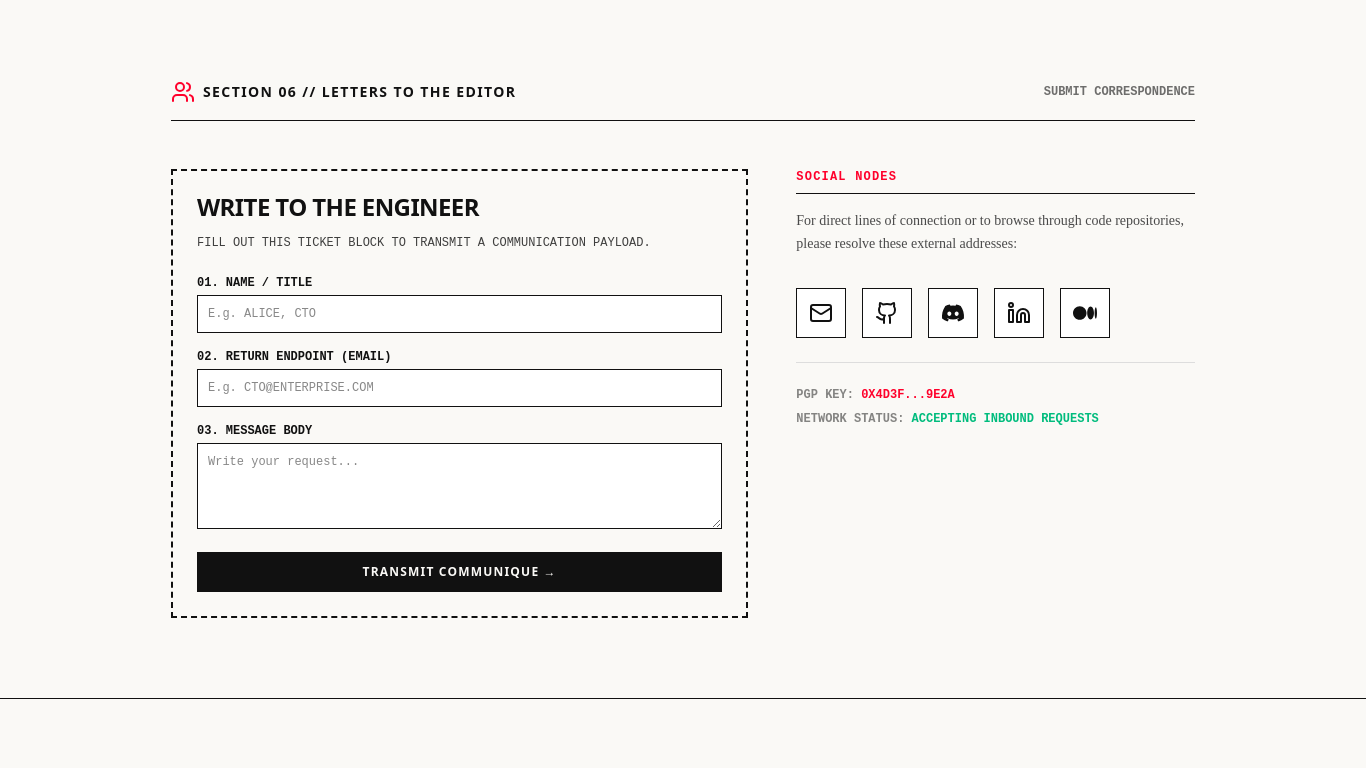
Contact Component › handles form updates and mock transmission submissions
// Enter values
Type "John Doe" into the field with placeholder "E.g. ALICE, CTO" at (460, 314), box [197,295,722,333]
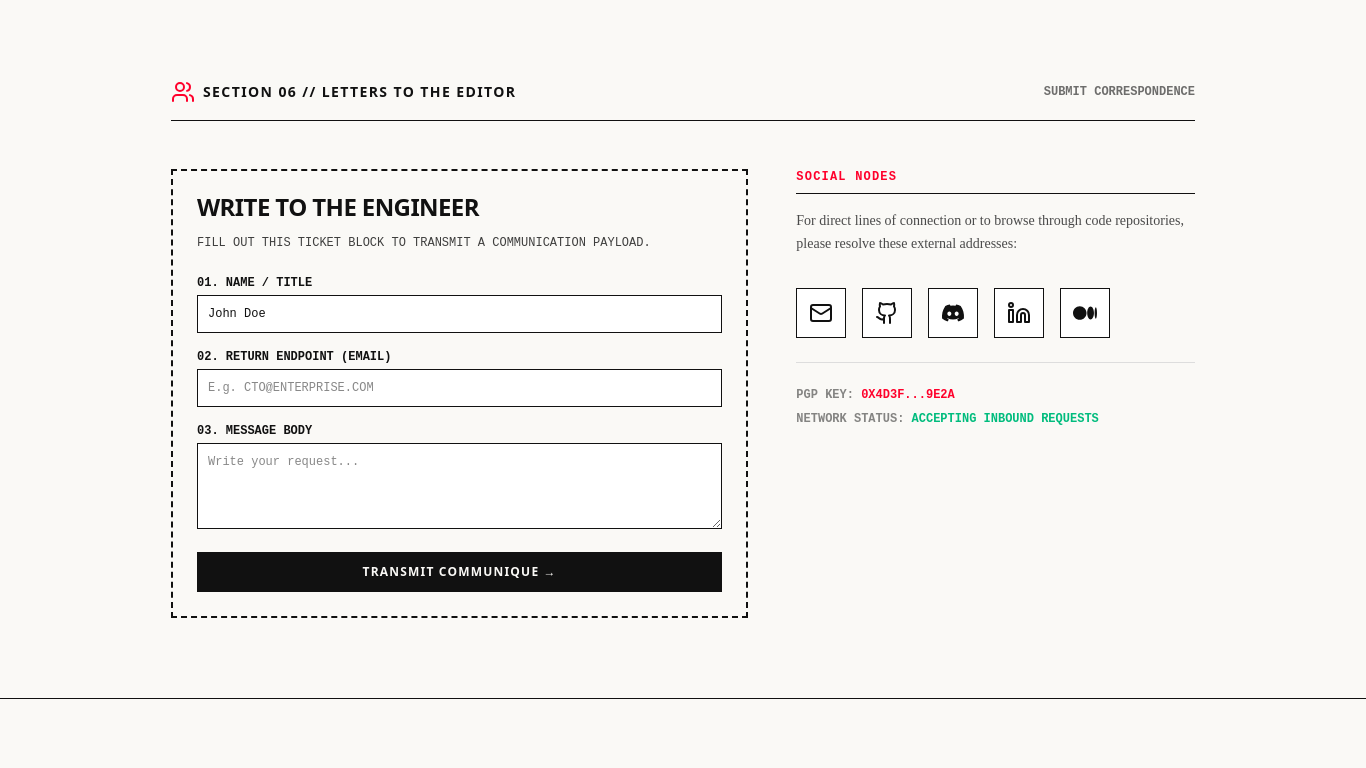
Type "john@example.com" into the field with placeholder "E.g. CTO@ENTERPRISE.COM" at (460, 388), box [197,369,722,407]
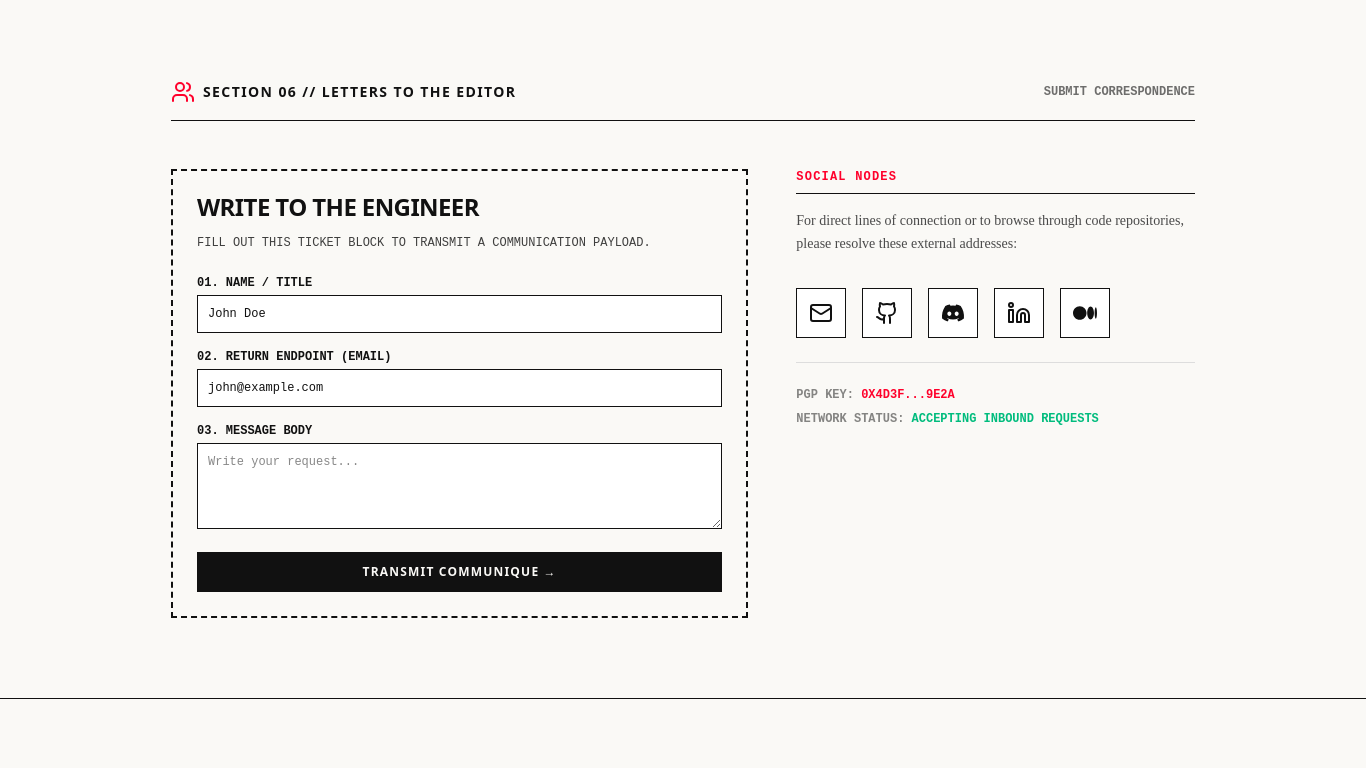
Type "Hello, this is a test message." into the text box with placeholder "Write your request..." at (460, 486), box [197,443,722,529]
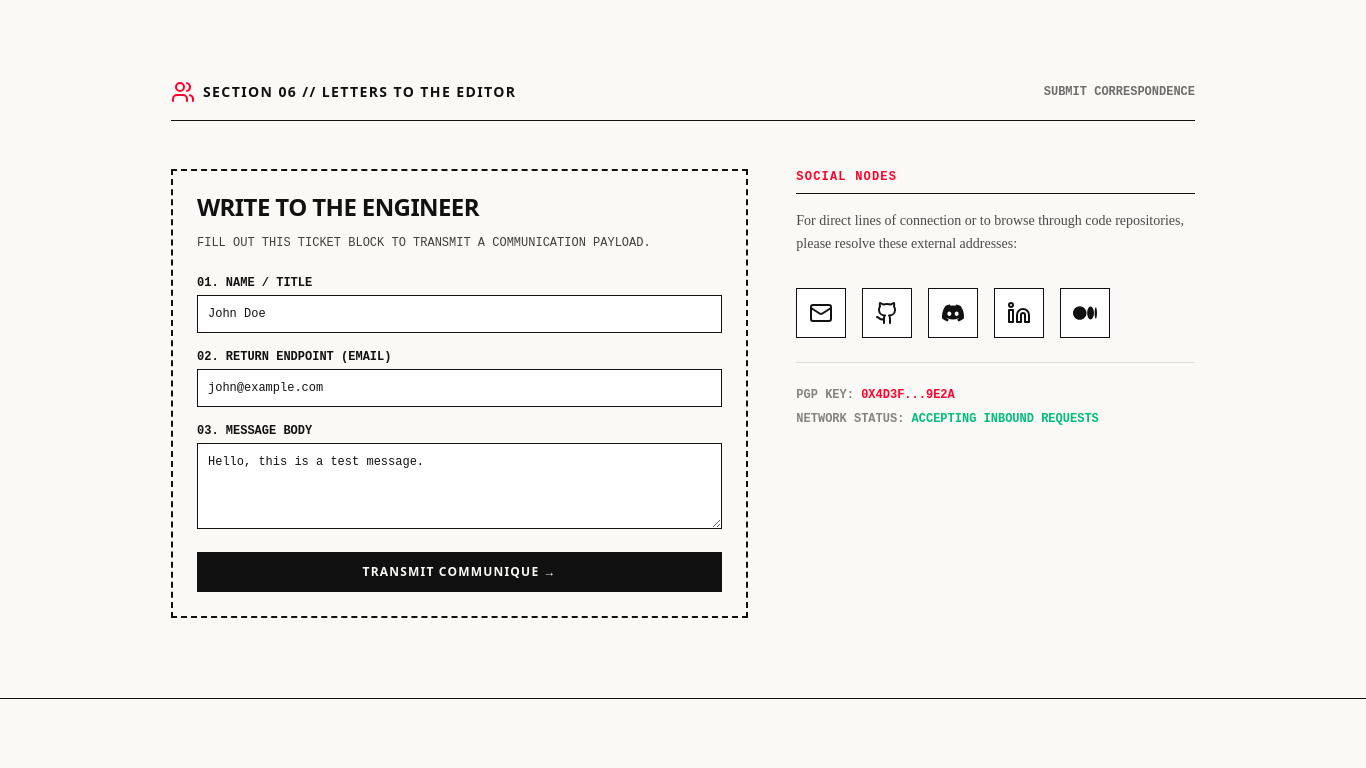
// Submit form
Click the button "TRANSMIT COMMUNIQUE →" at (460, 572), box [197,552,722,592]
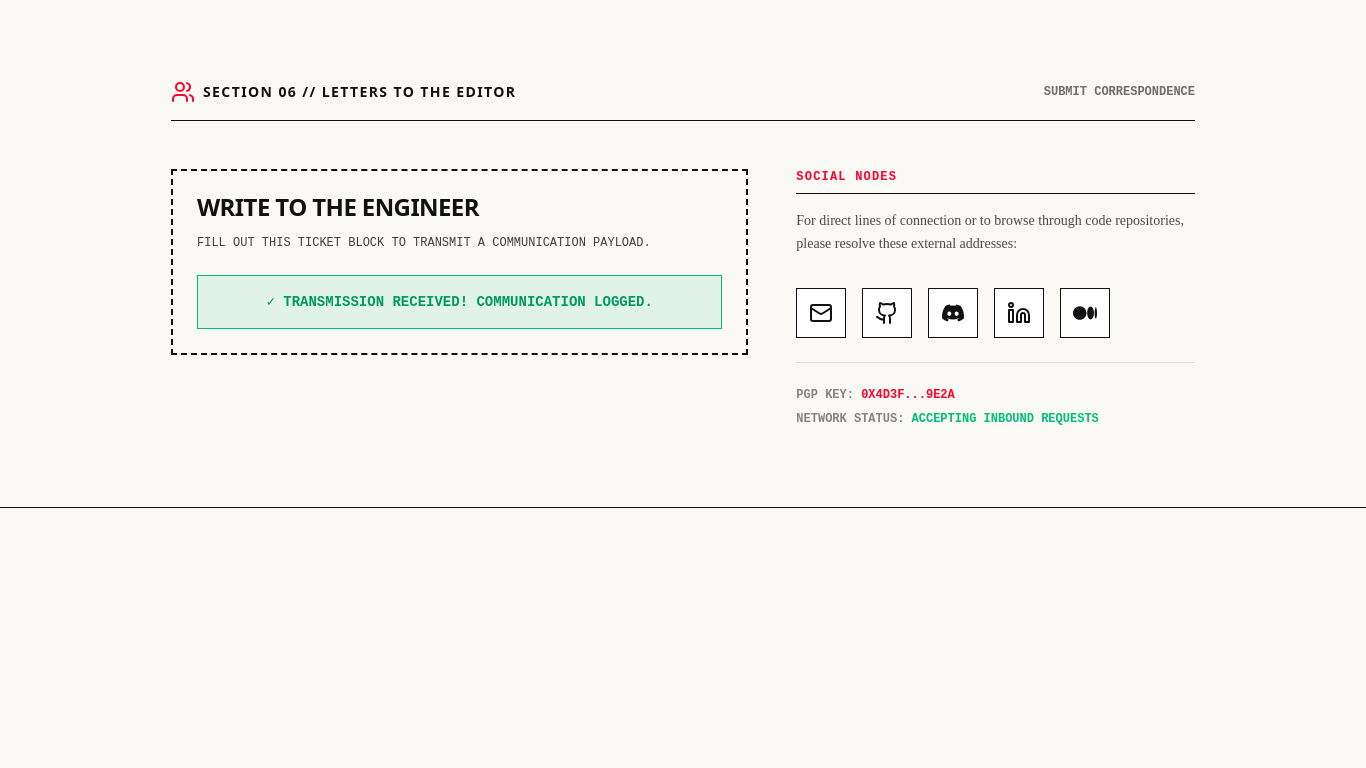
Result: the text "✓ Transmission Received! Communication logged." is shown at [197,275,722,329]
